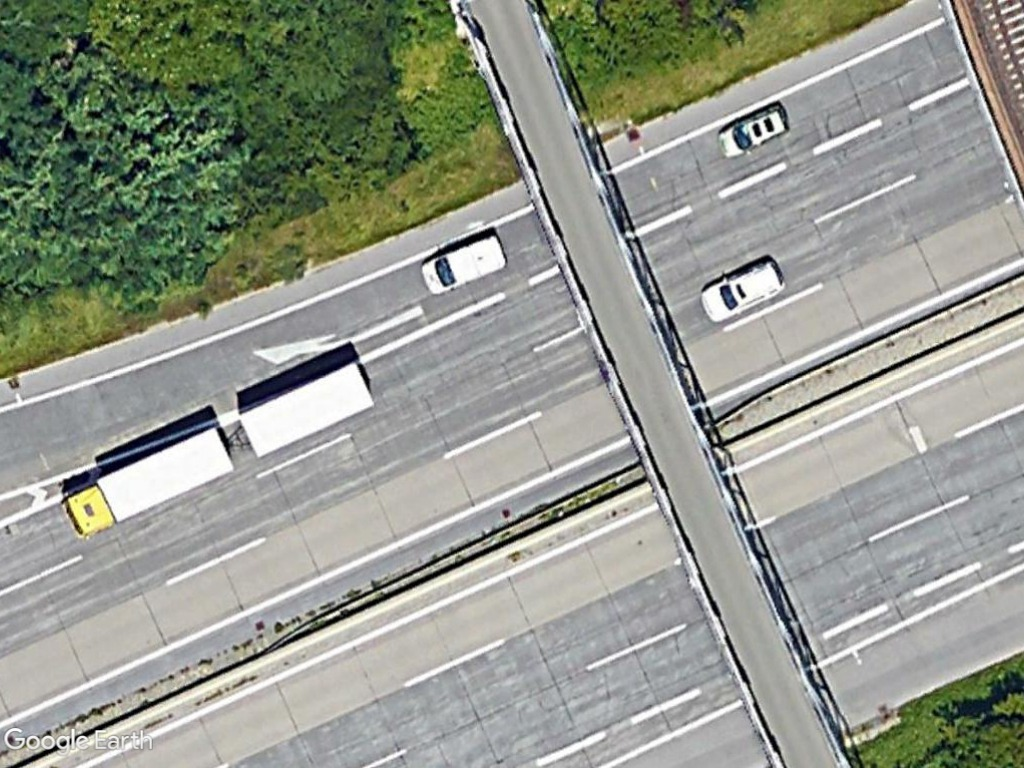car: (697, 252, 788, 327), (714, 97, 796, 163)
truck: (59, 411, 238, 546)
van: (414, 226, 512, 299)
